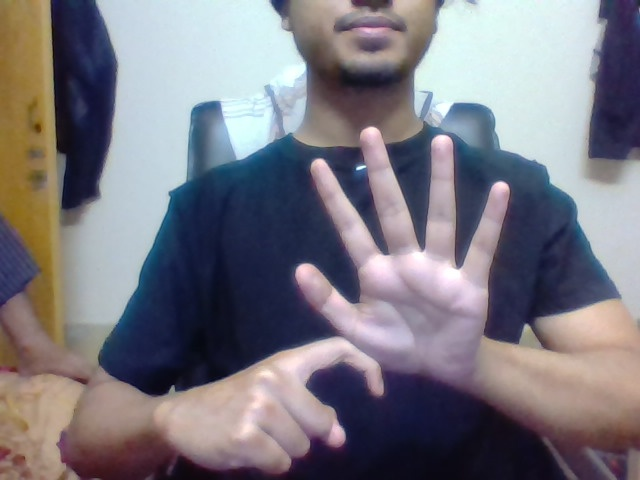R: (268, 337, 385, 452)
